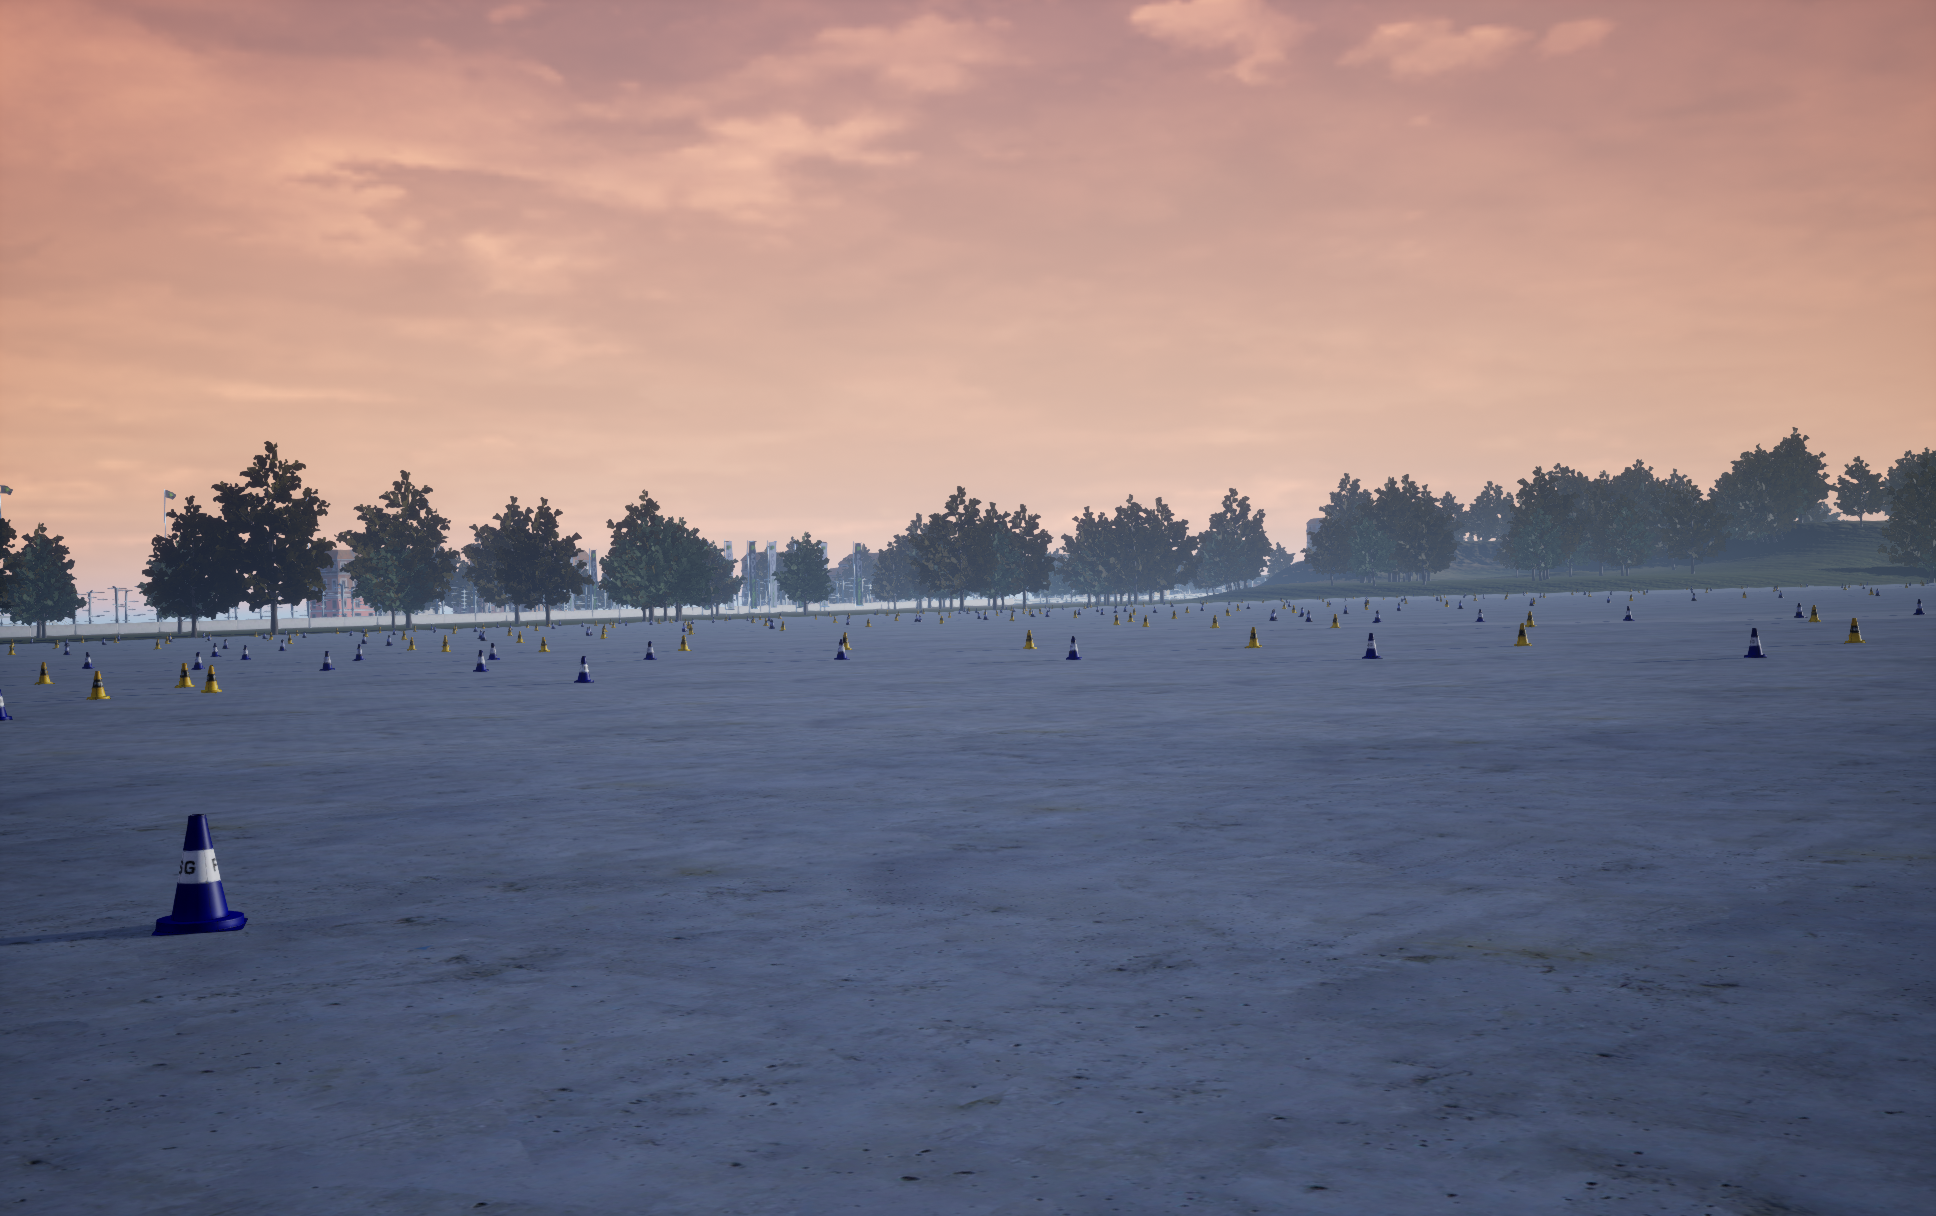blue: (85, 671, 111, 699), (200, 665, 221, 692), (1844, 618, 1865, 643), (174, 663, 193, 686), (34, 663, 55, 684), (1514, 623, 1531, 644), (1244, 628, 1261, 647), (1023, 630, 1037, 649)
yellow: (151, 814, 247, 934), (1744, 628, 1766, 657), (1362, 633, 1383, 658), (574, 656, 593, 682), (0, 689, 13, 720), (1066, 636, 1081, 658), (834, 639, 849, 658), (473, 650, 488, 671), (319, 651, 333, 670), (643, 642, 656, 658)
